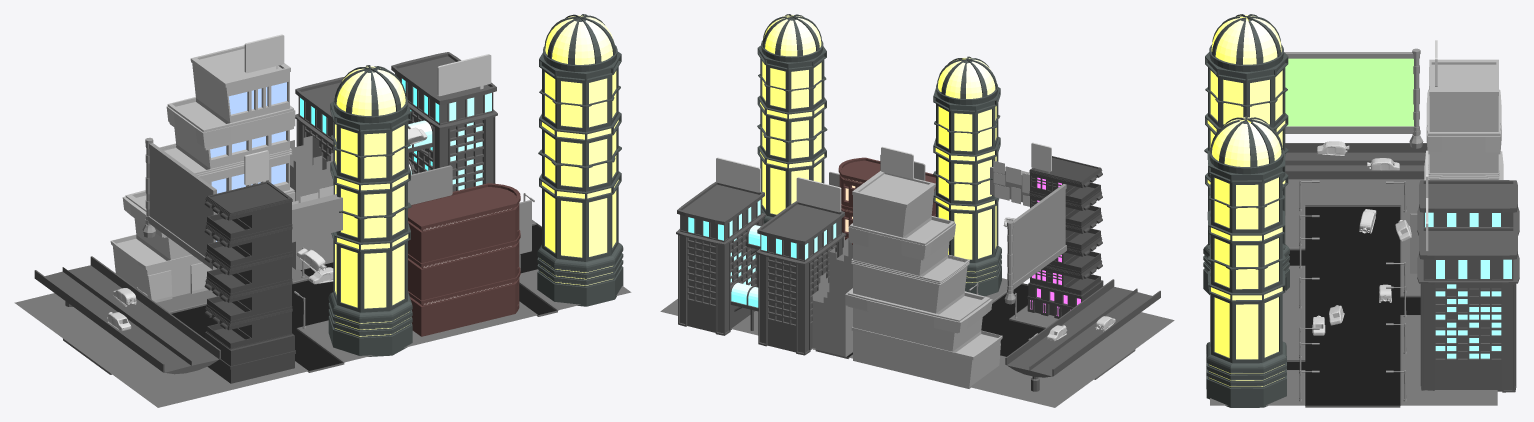
File: CyberCity2.glb
3 renders of one model, left to right at view 1: azimuth 30°, elevation 25°; view 2: azimuth 150°, elevation 25°; view 3: azimuth 270°, elevation 25°, orthographic. The views are drawn at different scales.
Visible parts, largest first — view 1: Cube.001, Cylinder.002, Cylinder, Plane, Cube.003, Cube.002, Cube.005, Cube.021, Cube.020, Sphere, Sphere.001, Cube.018 (+9 smaller); view 2: Cube.001, Cylinder, Cube.005, Cube.004, Cylinder.002, Plane, Cube.002, Cube.021, Cube.020, Cube.019, Sphere.001, Sphere (+9 smaller); view 3: Plane, Cylinder.002, Cube.005, Cube.020, Cube.001, Cylinder, Cube.004, Cube.021, Sphere.001, Sphere, Cylinder.016, Cylinder.001 (+3 smaller).
Boxes of the visible parts, x1,y1,x2,y2 form: Cube.001: [110, 45, 295, 302]; Cylinder.002: [537, 51, 623, 306]; Cylinder: [328, 102, 412, 356]; Plane: [14, 220, 631, 407]; Cube.003: [408, 183, 520, 336]; Cube.002: [204, 181, 292, 349]; Cube.005: [391, 52, 497, 191]; Cube.021: [34, 256, 220, 374]; Cube.020: [147, 143, 216, 269]; Sphere: [333, 65, 407, 123]; Sphere.001: [543, 14, 617, 71]; Cube.018: [290, 135, 333, 270]; Cube.001: [845, 171, 1002, 388]; Cylinder: [933, 87, 1001, 296]; Cube.005: [676, 182, 765, 335]; Cube.004: [756, 201, 846, 355]; Cylinder.002: [757, 45, 827, 223]; Plane: [660, 278, 1174, 407]; Cube.002: [1029, 156, 1102, 295]; Cube.021: [1005, 279, 1160, 377]; Cube.020: [1012, 184, 1066, 289]; Cube.019: [812, 273, 852, 356]; Sphere.001: [761, 14, 823, 62]; Sphere: [936, 56, 998, 104]; Plane: [1210, 179, 1497, 407]; Cylinder.002: [1206, 151, 1286, 407]; Cube.005: [1417, 227, 1519, 392]; Cube.020: [1284, 52, 1415, 133]; Cube.001: [1424, 59, 1503, 180]; Cylinder: [1203, 52, 1289, 294]; Cube.004: [1417, 180, 1519, 235]; Cube.021: [1285, 143, 1427, 179]; Sphere.001: [1209, 116, 1283, 174]; Sphere: [1209, 14, 1283, 71]; Cylinder.016: [1409, 48, 1423, 148]; Cylinder.001: [1410, 213, 1418, 273].
Bounding box in the file's own units: 49.82 × 27.43 × 28.71.
